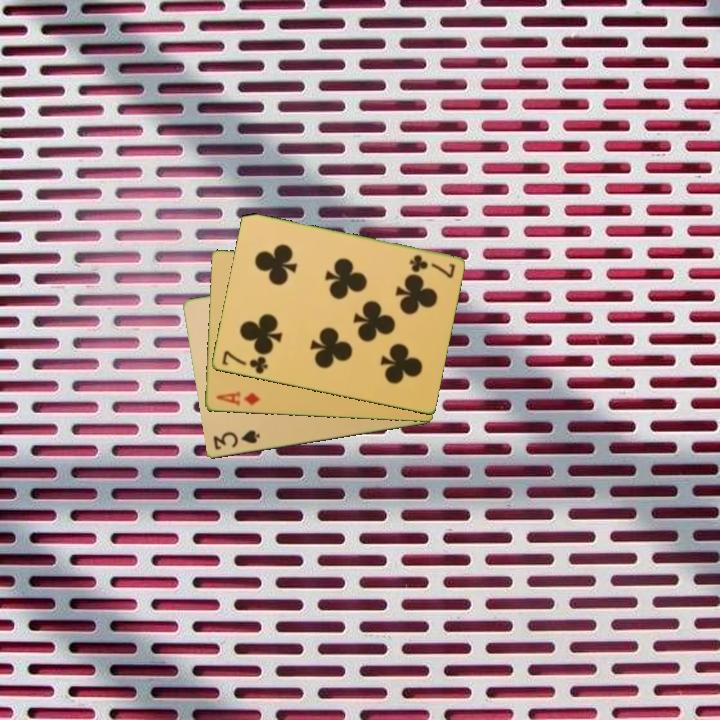3s: (209, 427, 263, 453)
7c: (405, 251, 458, 281), (218, 347, 270, 377)
Ad: (213, 388, 263, 409)
